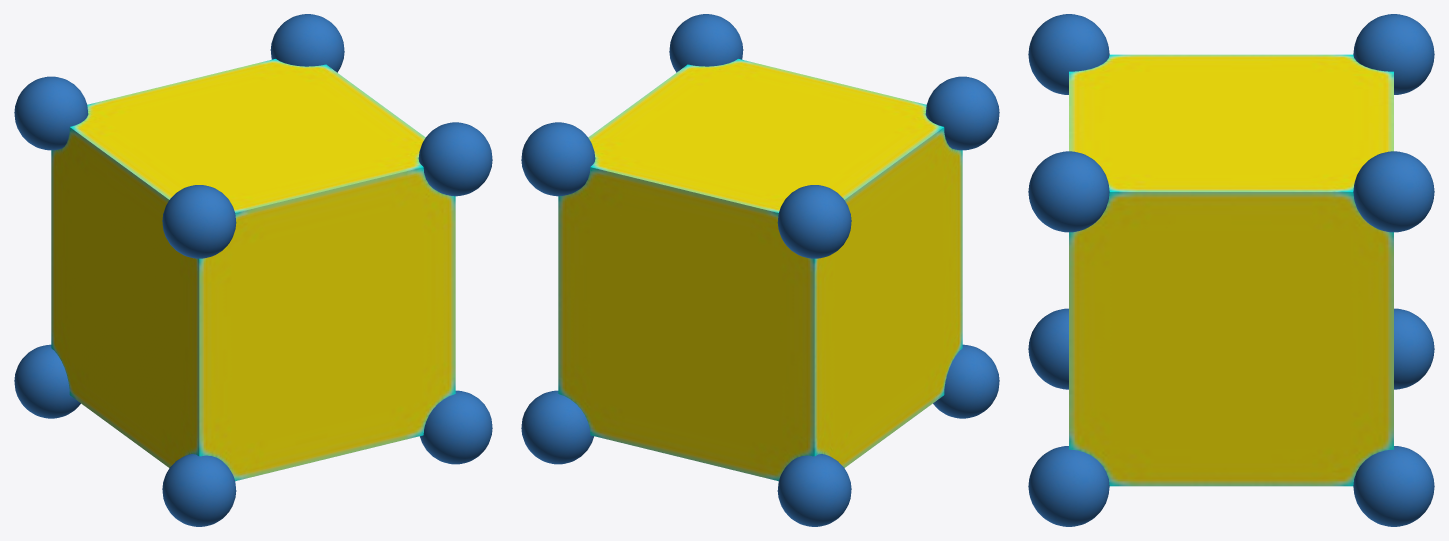
3 views of the same model, side by side, from view 1: azimuth 30°, elevation 25°; view 2: azimuth 150°, elevation 25°; view 3: azimuth 270°, elevation 25° (orthographic). The views are drawn at different scales.
Parts seen in each view (by area): view 1: Cubique_simple; view 2: Cubique_simple; view 3: Cubique_simple.
Boxes of the visible parts, x1,y1,x2,y2 form: Cubique_simple: [14, 14, 492, 526]; Cubique_simple: [521, 14, 999, 526]; Cubique_simple: [1028, 14, 1434, 526].
Size of the model in its own units: 0.5124 by 0.5124 by 0.5124.
Materials: 2 (2 with a texture image).
